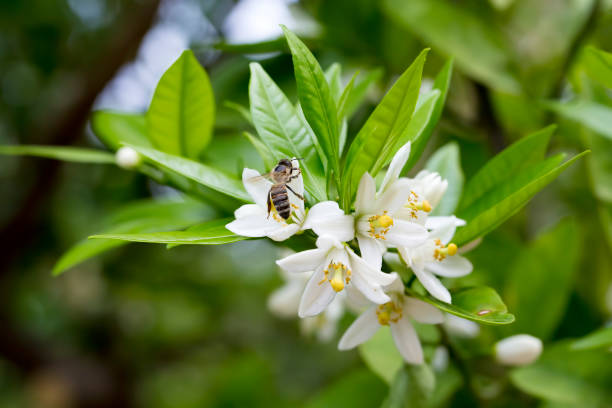flower: (312, 160, 427, 274), (275, 225, 396, 315), (337, 272, 449, 368), (391, 191, 482, 297), (228, 157, 307, 249)
